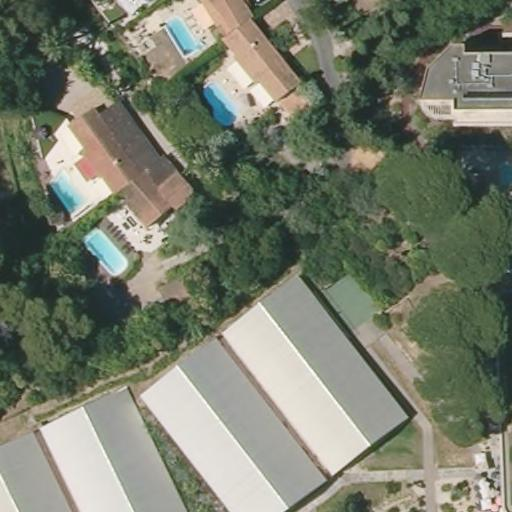pool: (82, 228, 129, 275), (198, 81, 241, 129), (44, 172, 86, 216), (162, 13, 203, 55)
